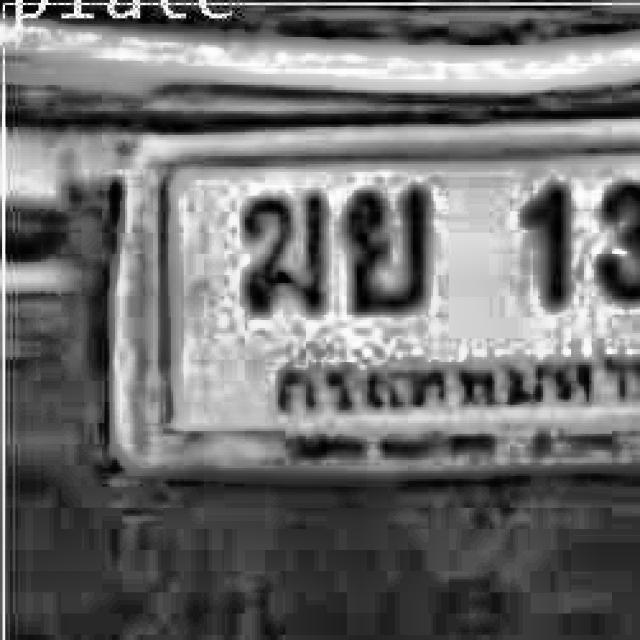license-plate: (112, 116, 640, 471)
